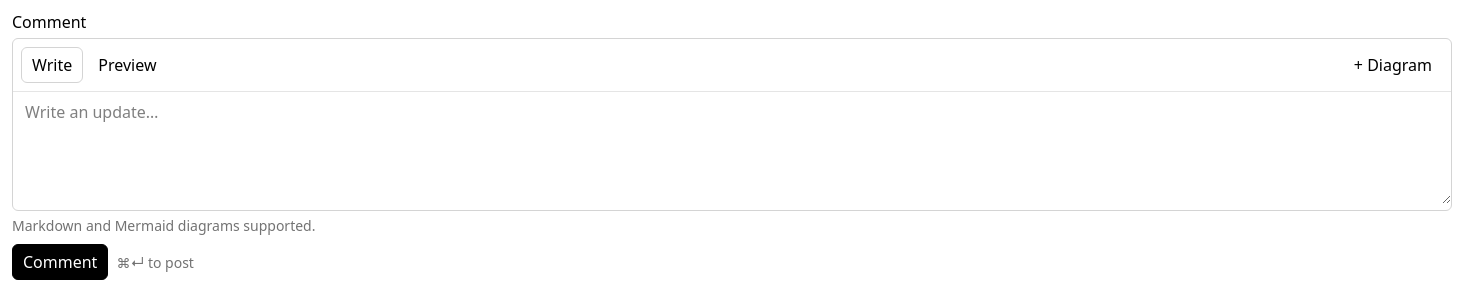
Test: CommentComposer › explains an empty preview
Step 1. Click the button "Preview" → {"x": 127, "y": 65}, box [87,47,168,83]
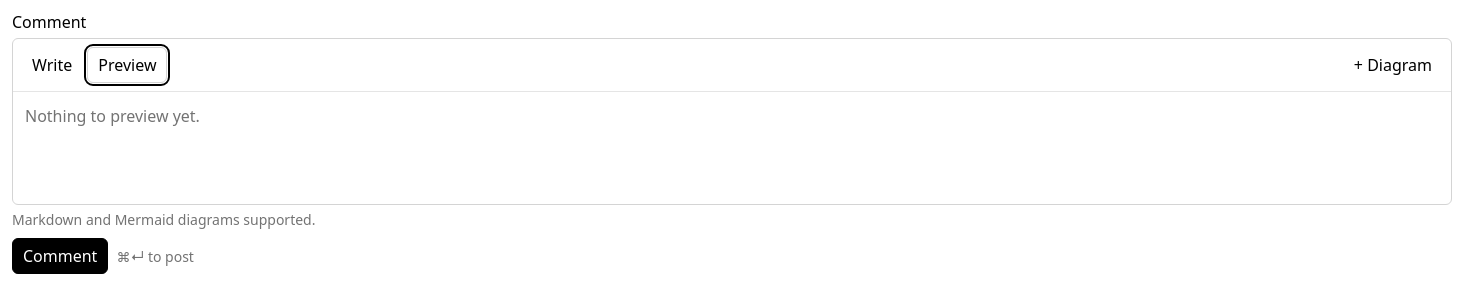
Check: the element named "Comment preview" reads "Nothing to preview yet.", box [25,105,200,127]
